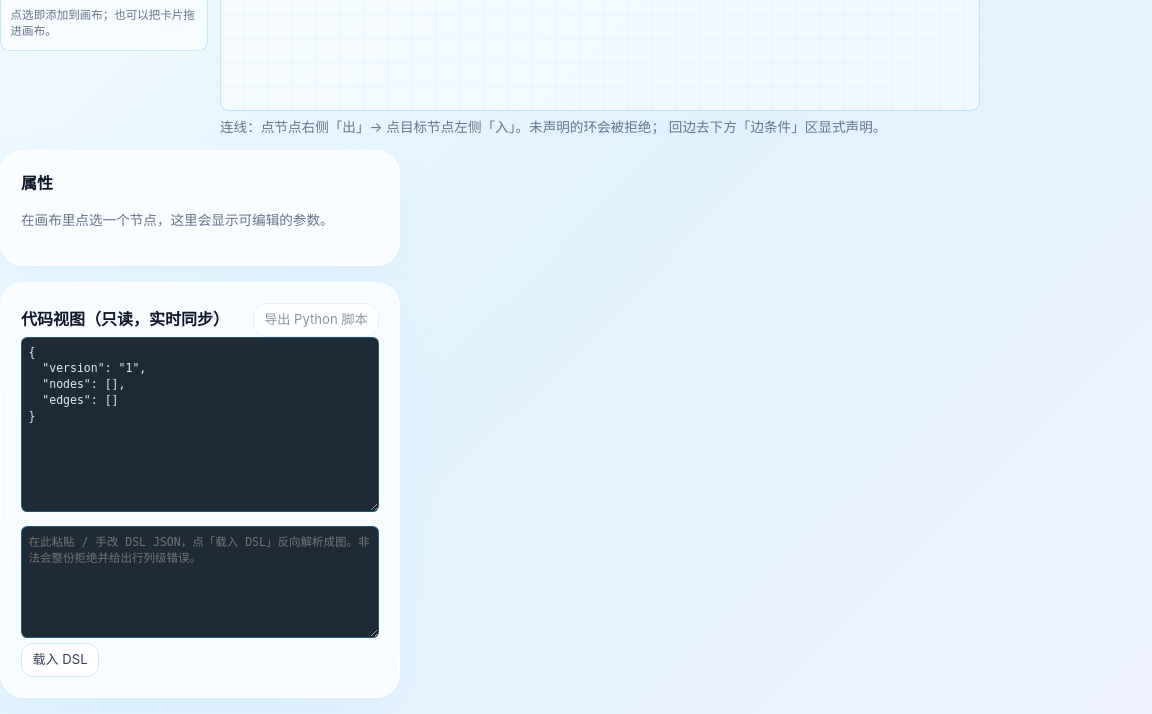
Test: FlowEditor 组件 · 画布交互 › DSL 文本不是合法 JSON 时本地就拦下，不打后端
(page scrolled)
Click the text box with test id "flow-dsl-input" at (200, 582), box [21,526,379,638]
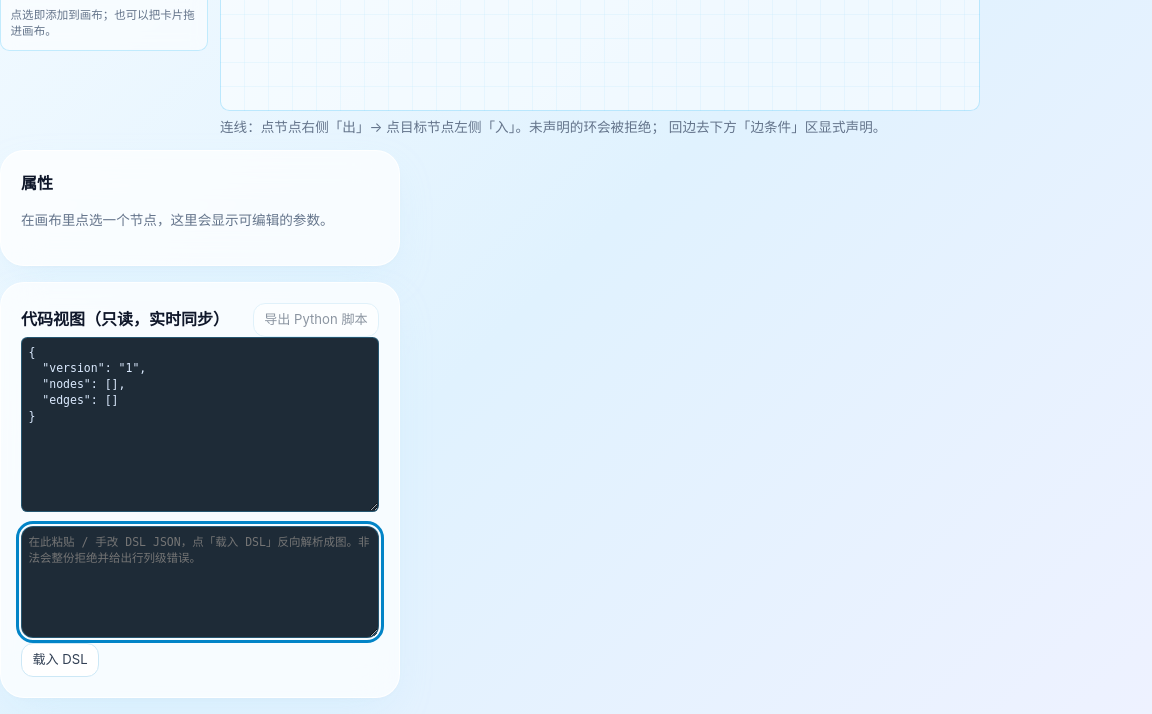
Type keys "not-json{"
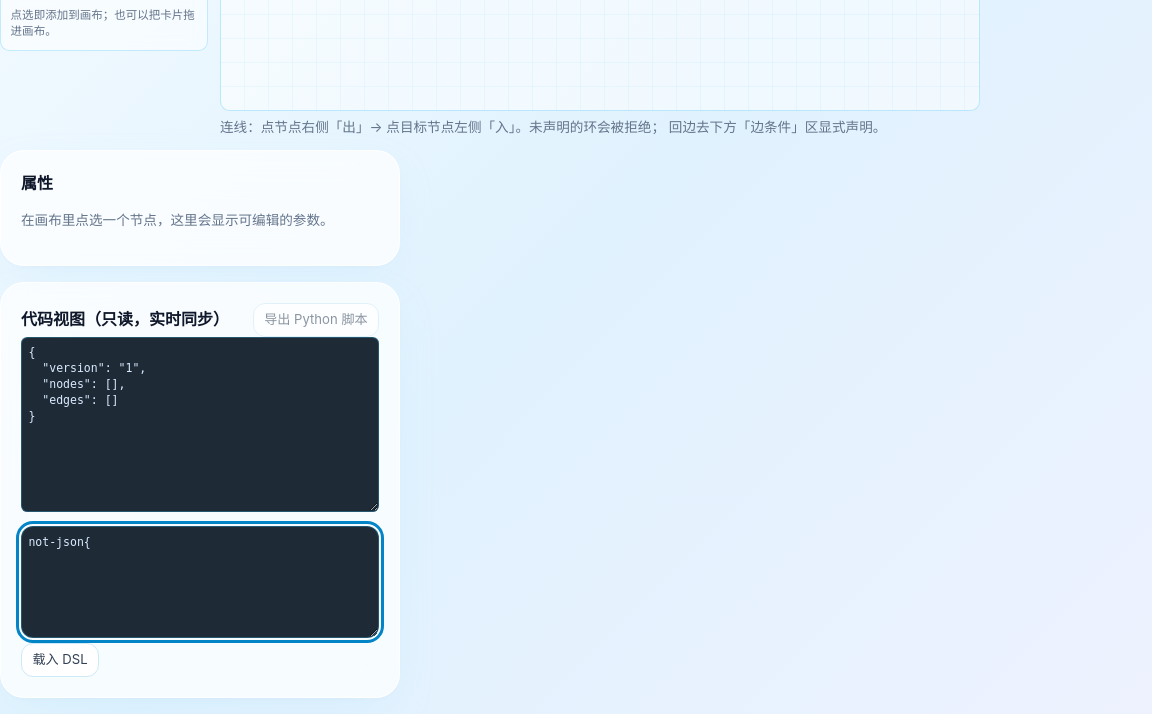
Click the button with test id "flow-load" at (60, 660), box [21,643,99,677]
(page scrolled)
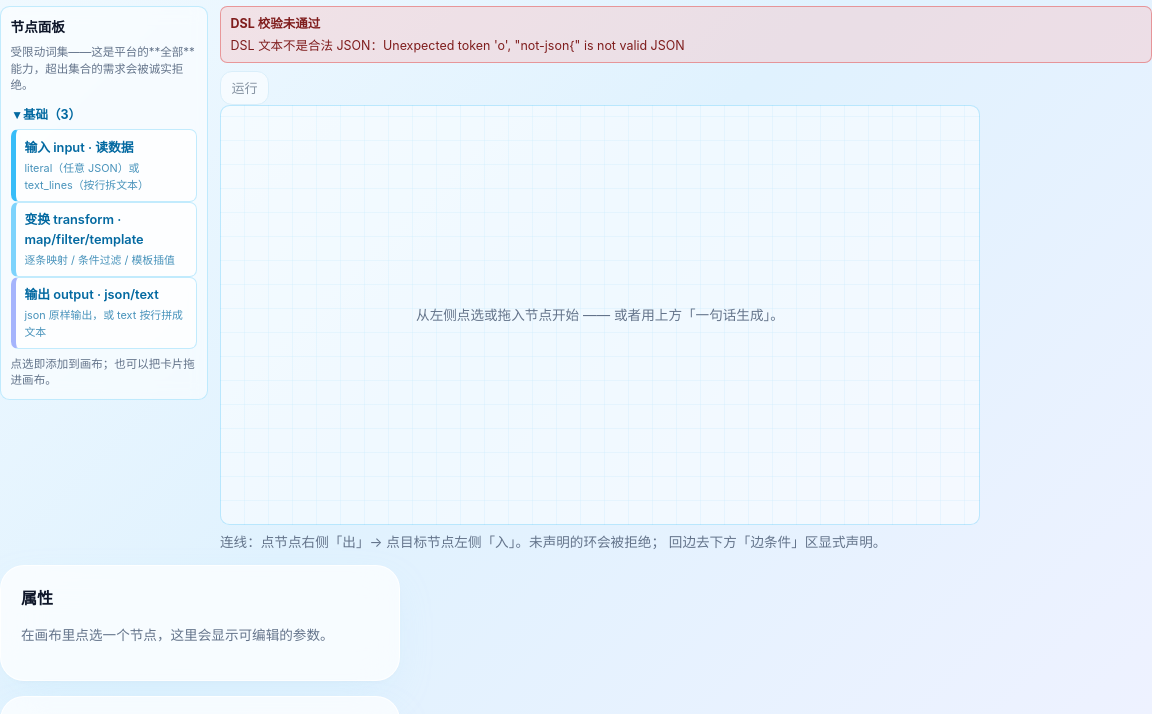
Expected: the message with test id "flow-error" shows "不是合法 JSON", [231,38,685,53]
